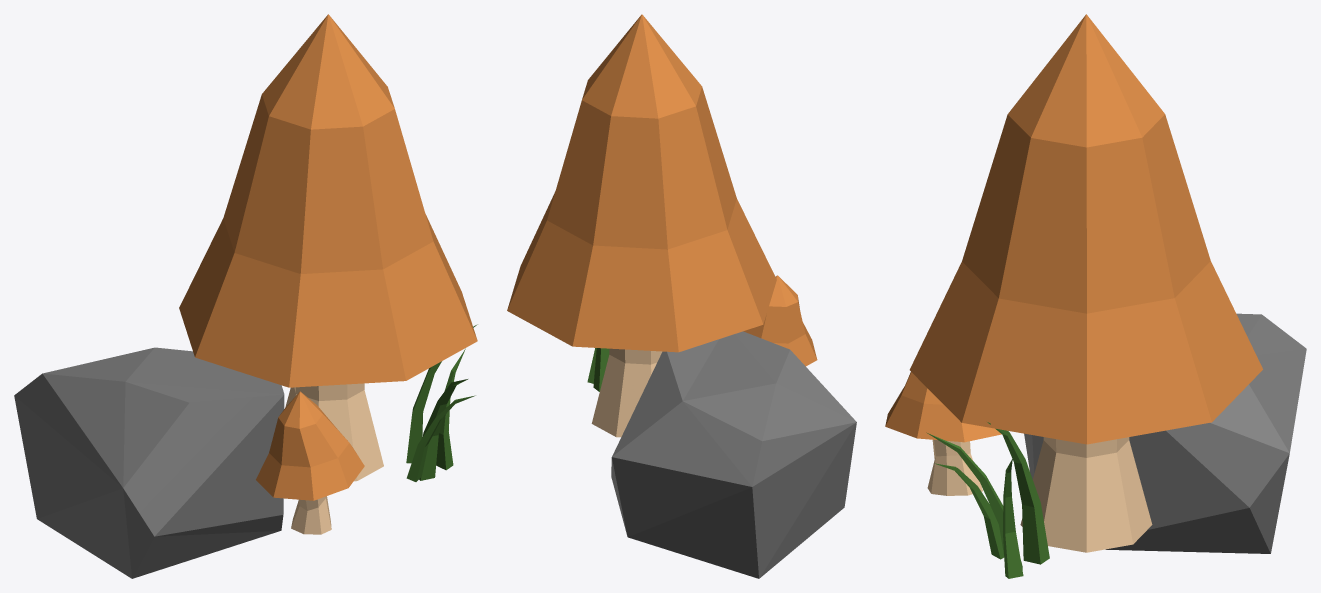
Rendered from mushroom-02.glb.
The picture shows the model from 3 angles, left to right: view 1: azimuth 30°, elevation 25°; view 2: azimuth 150°, elevation 25°; view 3: azimuth 270°, elevation 25°; orthographic projection. The views are drawn at different scales.
Visible parts, largest first — view 1: Mushrooms_grass2; view 2: Mushrooms_grass2; view 3: Mushrooms_grass2.
Part boxes in pixels (x1,y1,x2,y2): Mushrooms_grass2: [14, 14, 477, 578]; Mushrooms_grass2: [507, 14, 856, 578]; Mushrooms_grass2: [885, 14, 1306, 578].
Bounding box in the file's own units: 1.01 × 1.39 × 0.9043.
